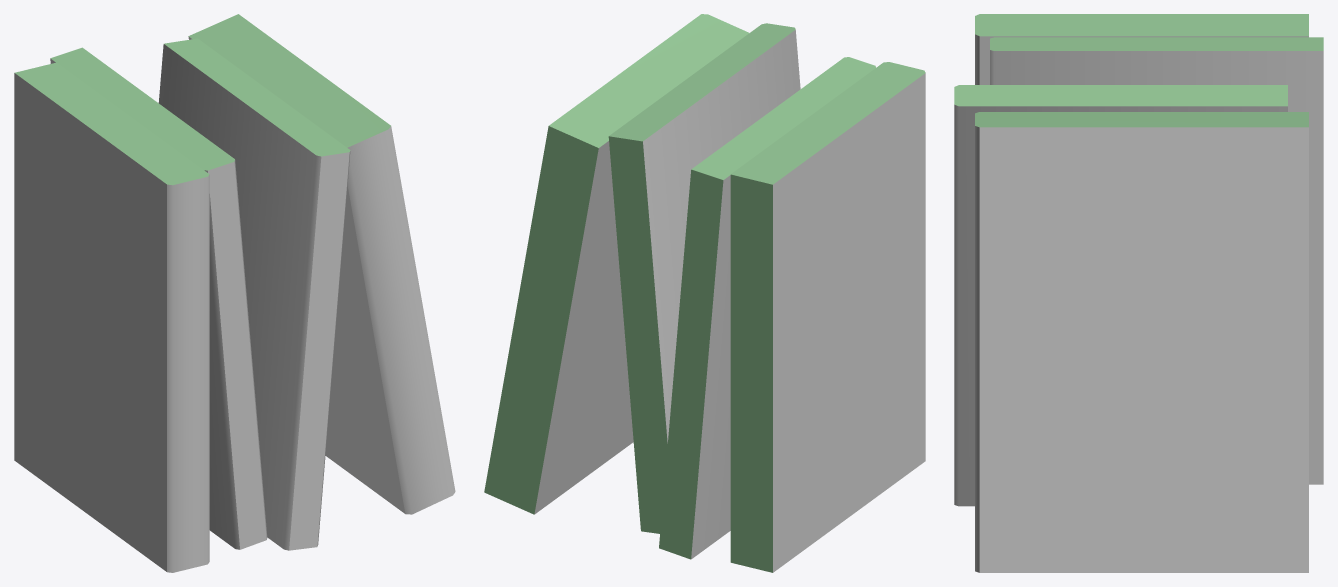
The model's file is SSYXING09.FBX.
3 views of the same model, side by side, from view 1: azimuth 30°, elevation 25°; view 2: azimuth 150°, elevation 25°; view 3: azimuth 270°, elevation 25° (orthographic). The views are drawn at different scales.
Parts seen in each view (by area): view 1: SSYXING09; view 2: SSYXING09; view 3: SSYXING09.
Boxes of the visible parts, <box> form: SSYXING09: <box>14,14,455,572</box>; SSYXING09: <box>484,14,925,572</box>; SSYXING09: <box>954,14,1323,572</box>.
Size of the model in its own units: 19.98 by 20.55 by 25.94.
